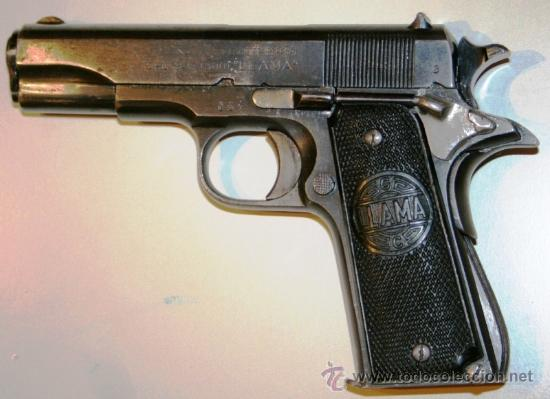Arma Real: (2, 12, 550, 391)
